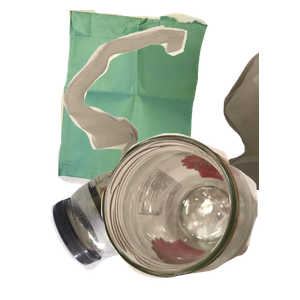glass: (98, 131, 300, 300)
paper: (55, 10, 255, 190)
plastic: (48, 152, 228, 300)
trash: (60, 23, 300, 203)
